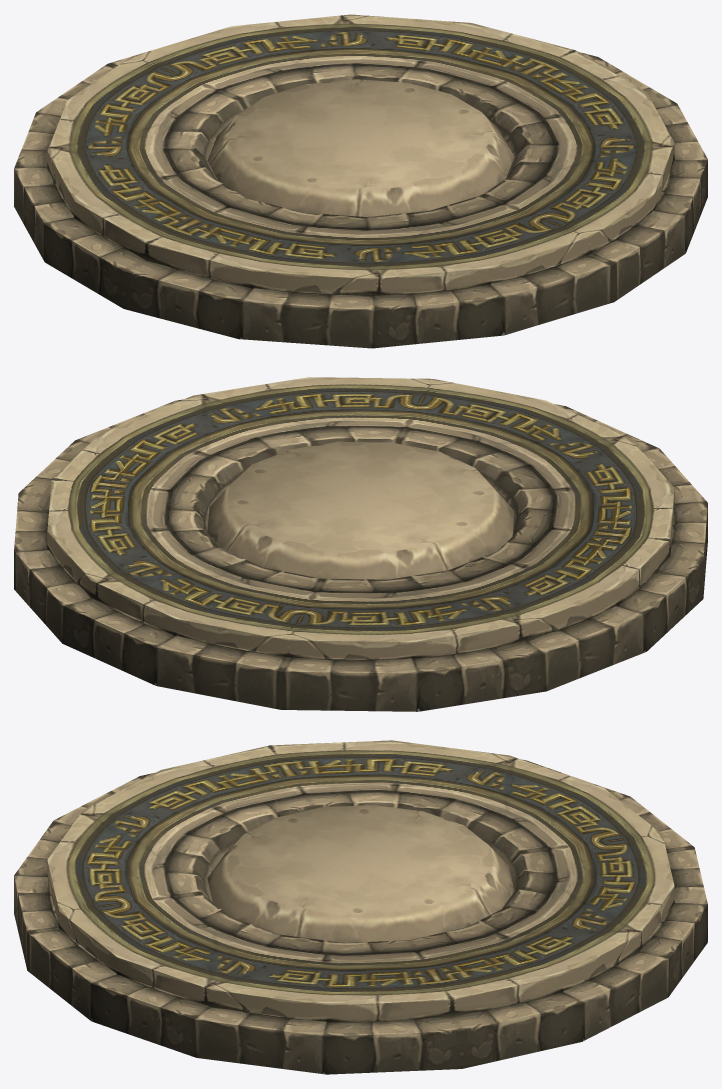
File: stone_yuanpan.FBX
3 views of the same model, one above another, from view 1: azimuth 30°, elevation 25°; view 2: azimuth 150°, elevation 25°; view 3: azimuth 270°, elevation 25° (orthographic).
Parts seen in each view (by area): view 1: stone_yuanpan; view 2: stone_yuanpan; view 3: stone_yuanpan.
Part boxes in pixels (x1,y1,x2,y2): stone_yuanpan: [14, 14, 707, 348]; stone_yuanpan: [14, 377, 707, 711]; stone_yuanpan: [14, 740, 707, 1074].
Bounding box in the file's own units: 474 × 50.36 × 474.
